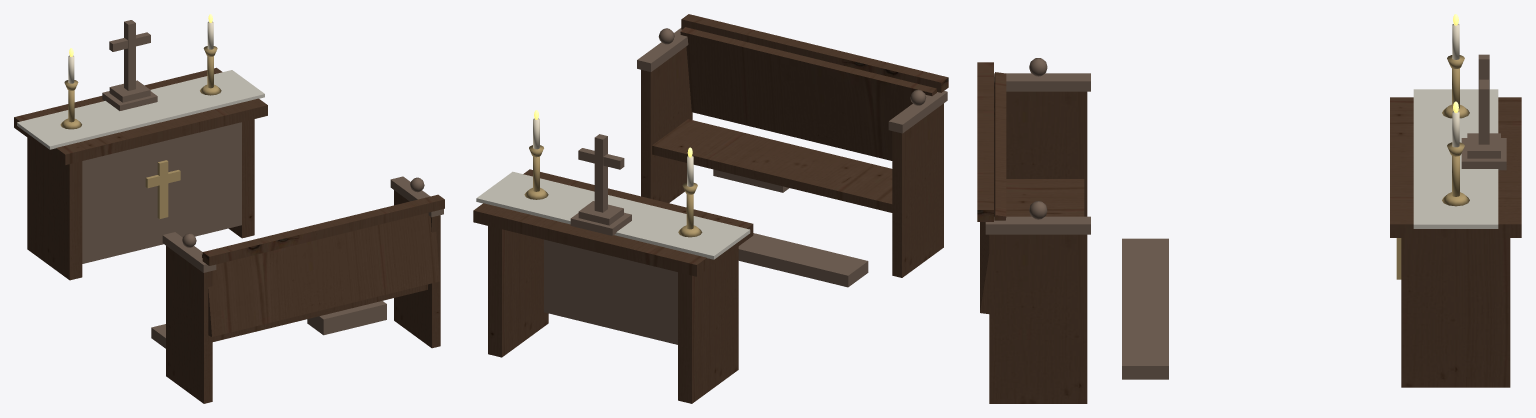
Rendered from chapel_pew_altar.glb.
The picture shows the model from 3 angles, left to right: view 1: azimuth 30°, elevation 25°; view 2: azimuth 150°, elevation 25°; view 3: azimuth 270°, elevation 25°; orthographic projection. The views are drawn at different scales.
Parts seen in each view (by area): view 1: PewBack, AltarFrontPanel, AltarCloth, AltarLegL, PewEnd0, AltarTop, PewBackRail, PewEnd1, AltarLegR, PewBookBox, PewSeat, PewEndCap0 (+6 smaller); view 2: PewBack, PewSeat, AltarFrontPanel, AltarLegL, AltarCloth, PewEnd0, AltarTop, AltarLegR, PewEnd1, PewBackRail, PewKneeler, PewEndCap0 (+6 smaller); view 3: PewEnd1, AltarLegR, AltarCloth, PewEnd0, AltarTop, PewKneeler, PewBack, PewSeat, PewBackRail, PewEndCap1, PewEndCap0, CrossV (+2 smaller).
Boxes of the visible parts, x1,y1,x2,y2 form: PewBack: (202,213,439,336); AltarFrontPanel: (82,122,241,263); AltarCloth: (17,70,264,149); AltarLegL: (27,137,82,280); PewEnd0: (166,246,212,403); AltarTop: (14,67,267,164); PewBackRail: (202,194,444,265); PewEnd1: (394,190,440,348); AltarLegR: (228,119,254,238); PewBookBox: (307,301,386,335); PewSeat: (212,284,427,341); PewEndCap0: (162,232,216,272); PewBack: (680,27,936,160); PewSeat: (652,119,892,212); AltarFrontPanel: (544,239,677,344); AltarLegL: (678,246,738,403); AltarCloth: (476,171,750,259); PewEnd0: (892,103,943,277); AltarTop: (473,169,753,276); AltarLegR: (488,226,548,357); PewEnd1: (641,47,692,202); PewBackRail: (681,14,948,92); PewKneeler: (738,233,868,287); PewEndCap0: (888,91,947,133); PewEnd1: (989,234,1087,403); AltarLegR: (1401,238,1510,387); AltarCloth: (1413,89,1498,228); PewEnd0: (1006,91,1087,216); AltarTop: (1390,97,1521,237); PewKneeler: (1122,238,1168,379); PewBack: (980,72,1006,313); PewSeat: (1006,179,1084,216); PewBackRail: (977,62,993,221); PewEndCap1: (985,216,1090,234); PewEndCap0: (994,73,1090,91); CrossV: (1478,54,1489,144).
Bounding box in the file's own units: 1.9 × 1.6 × 2.89.
6 materials, 1 textured.
